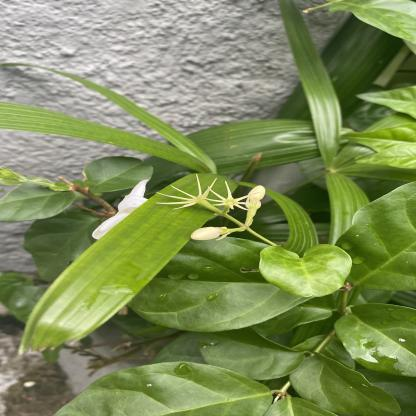Melati: (94, 180, 158, 242)
